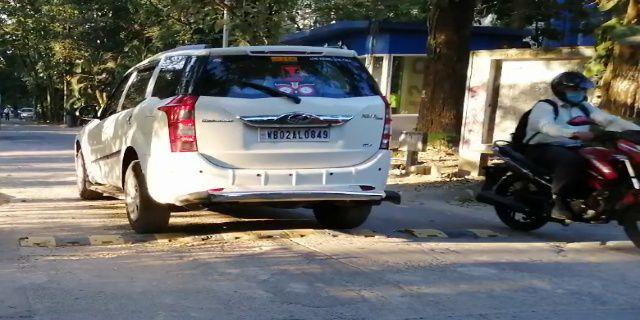Car: (72, 43, 398, 242)
Motorbike: (471, 72, 640, 255)
